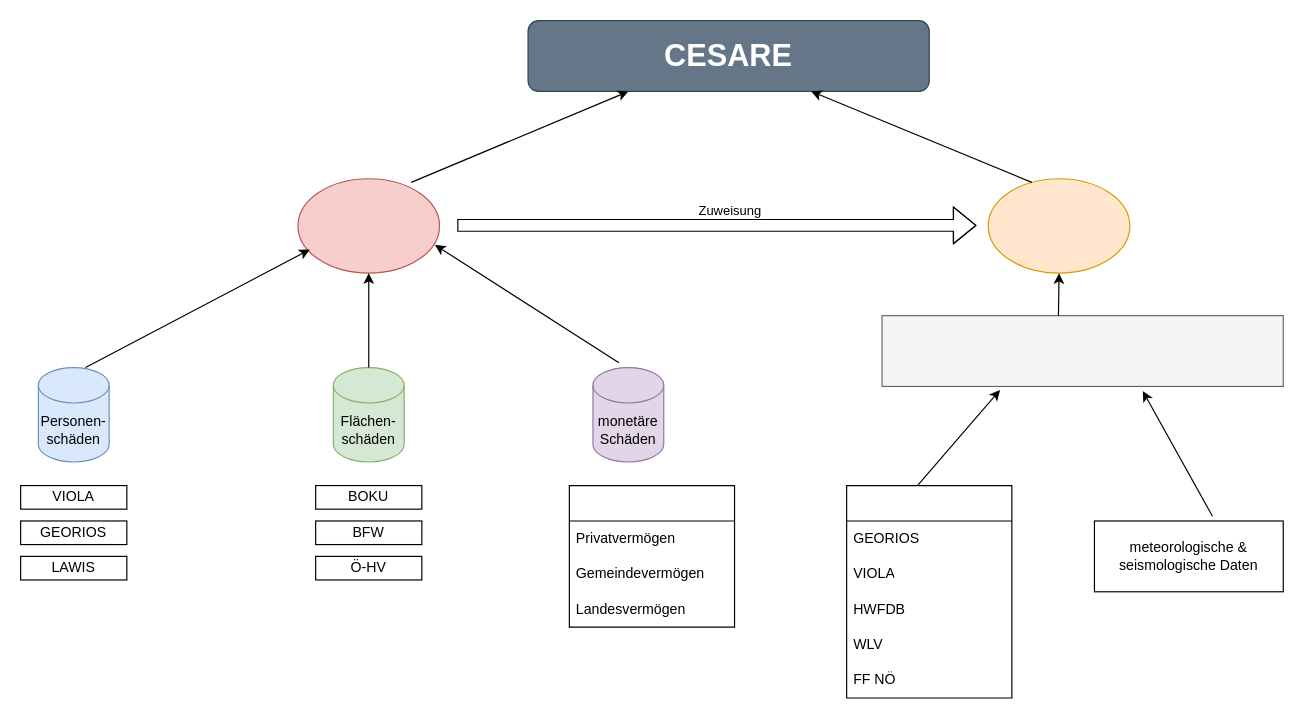
The diagram is 1304 pixels wide and 719 high, and some of its shapes have lost their labels. The shapes that lost their labels are listed below. From the top down, each one's box as (x1, y1, x2, y2) in pixels, then its label:
(297, 178, 440, 273): CESARE Schäden
(987, 178, 1130, 273): CESARE Ereignisse
(881, 314, 1283, 386): EREIGNISIDENTIFIKATION
(568, 484, 735, 627): Katastrophenfonds
(845, 484, 1012, 698): Ereignisdaten
